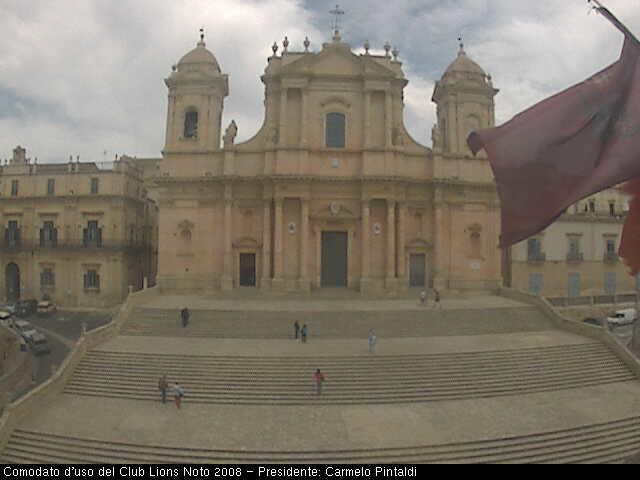person: (309, 367, 325, 397), (171, 382, 184, 411), (158, 372, 169, 404), (430, 287, 443, 312), (178, 306, 190, 328), (367, 328, 377, 353), (418, 287, 428, 308), (300, 323, 309, 344), (292, 320, 300, 340)
